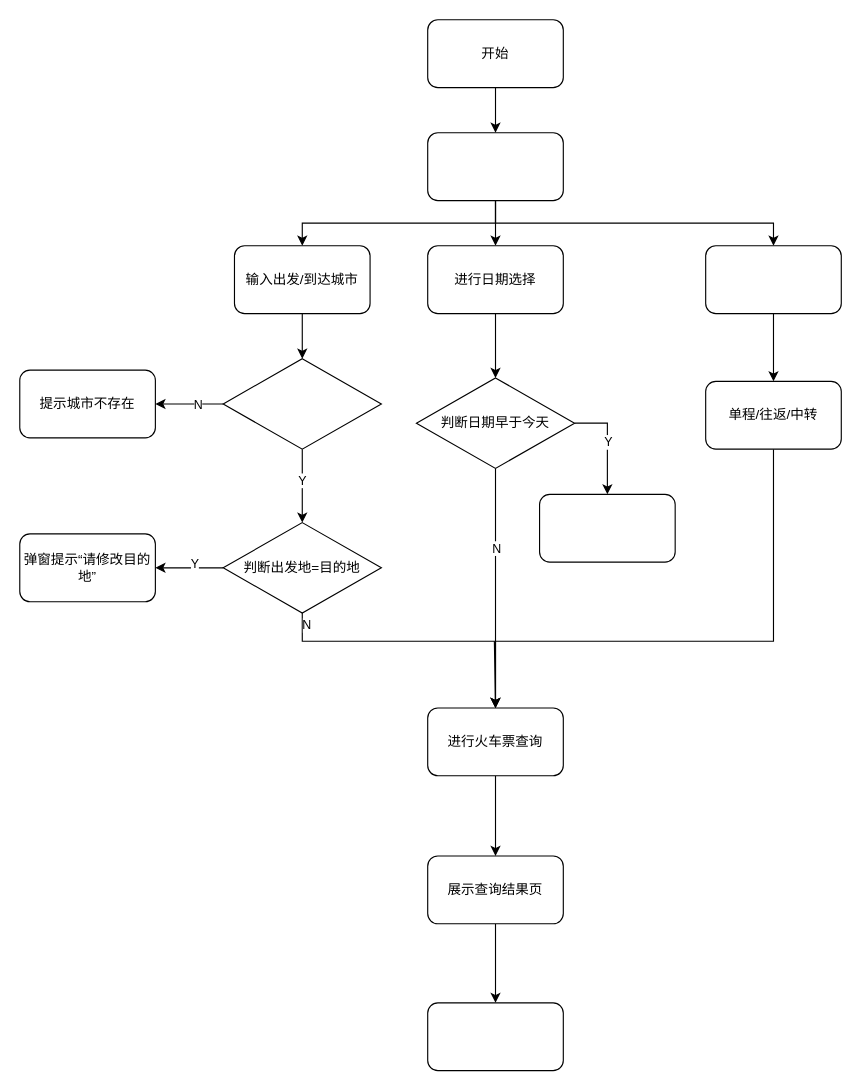
Image size: 861x1090. Some labels were removed from this diagram. The centre of each missing label's shape, as x and y in pixels:
"判断出发/到达城市 是否存在" goes at (301,403).
"提示“无效日期”" goes at (606,527).
"用户访问火车票查询页面，填写查询条件" goes at (495,166).
"结束" goes at (495,1036).
"选择乘作方式" goes at (773,279).
